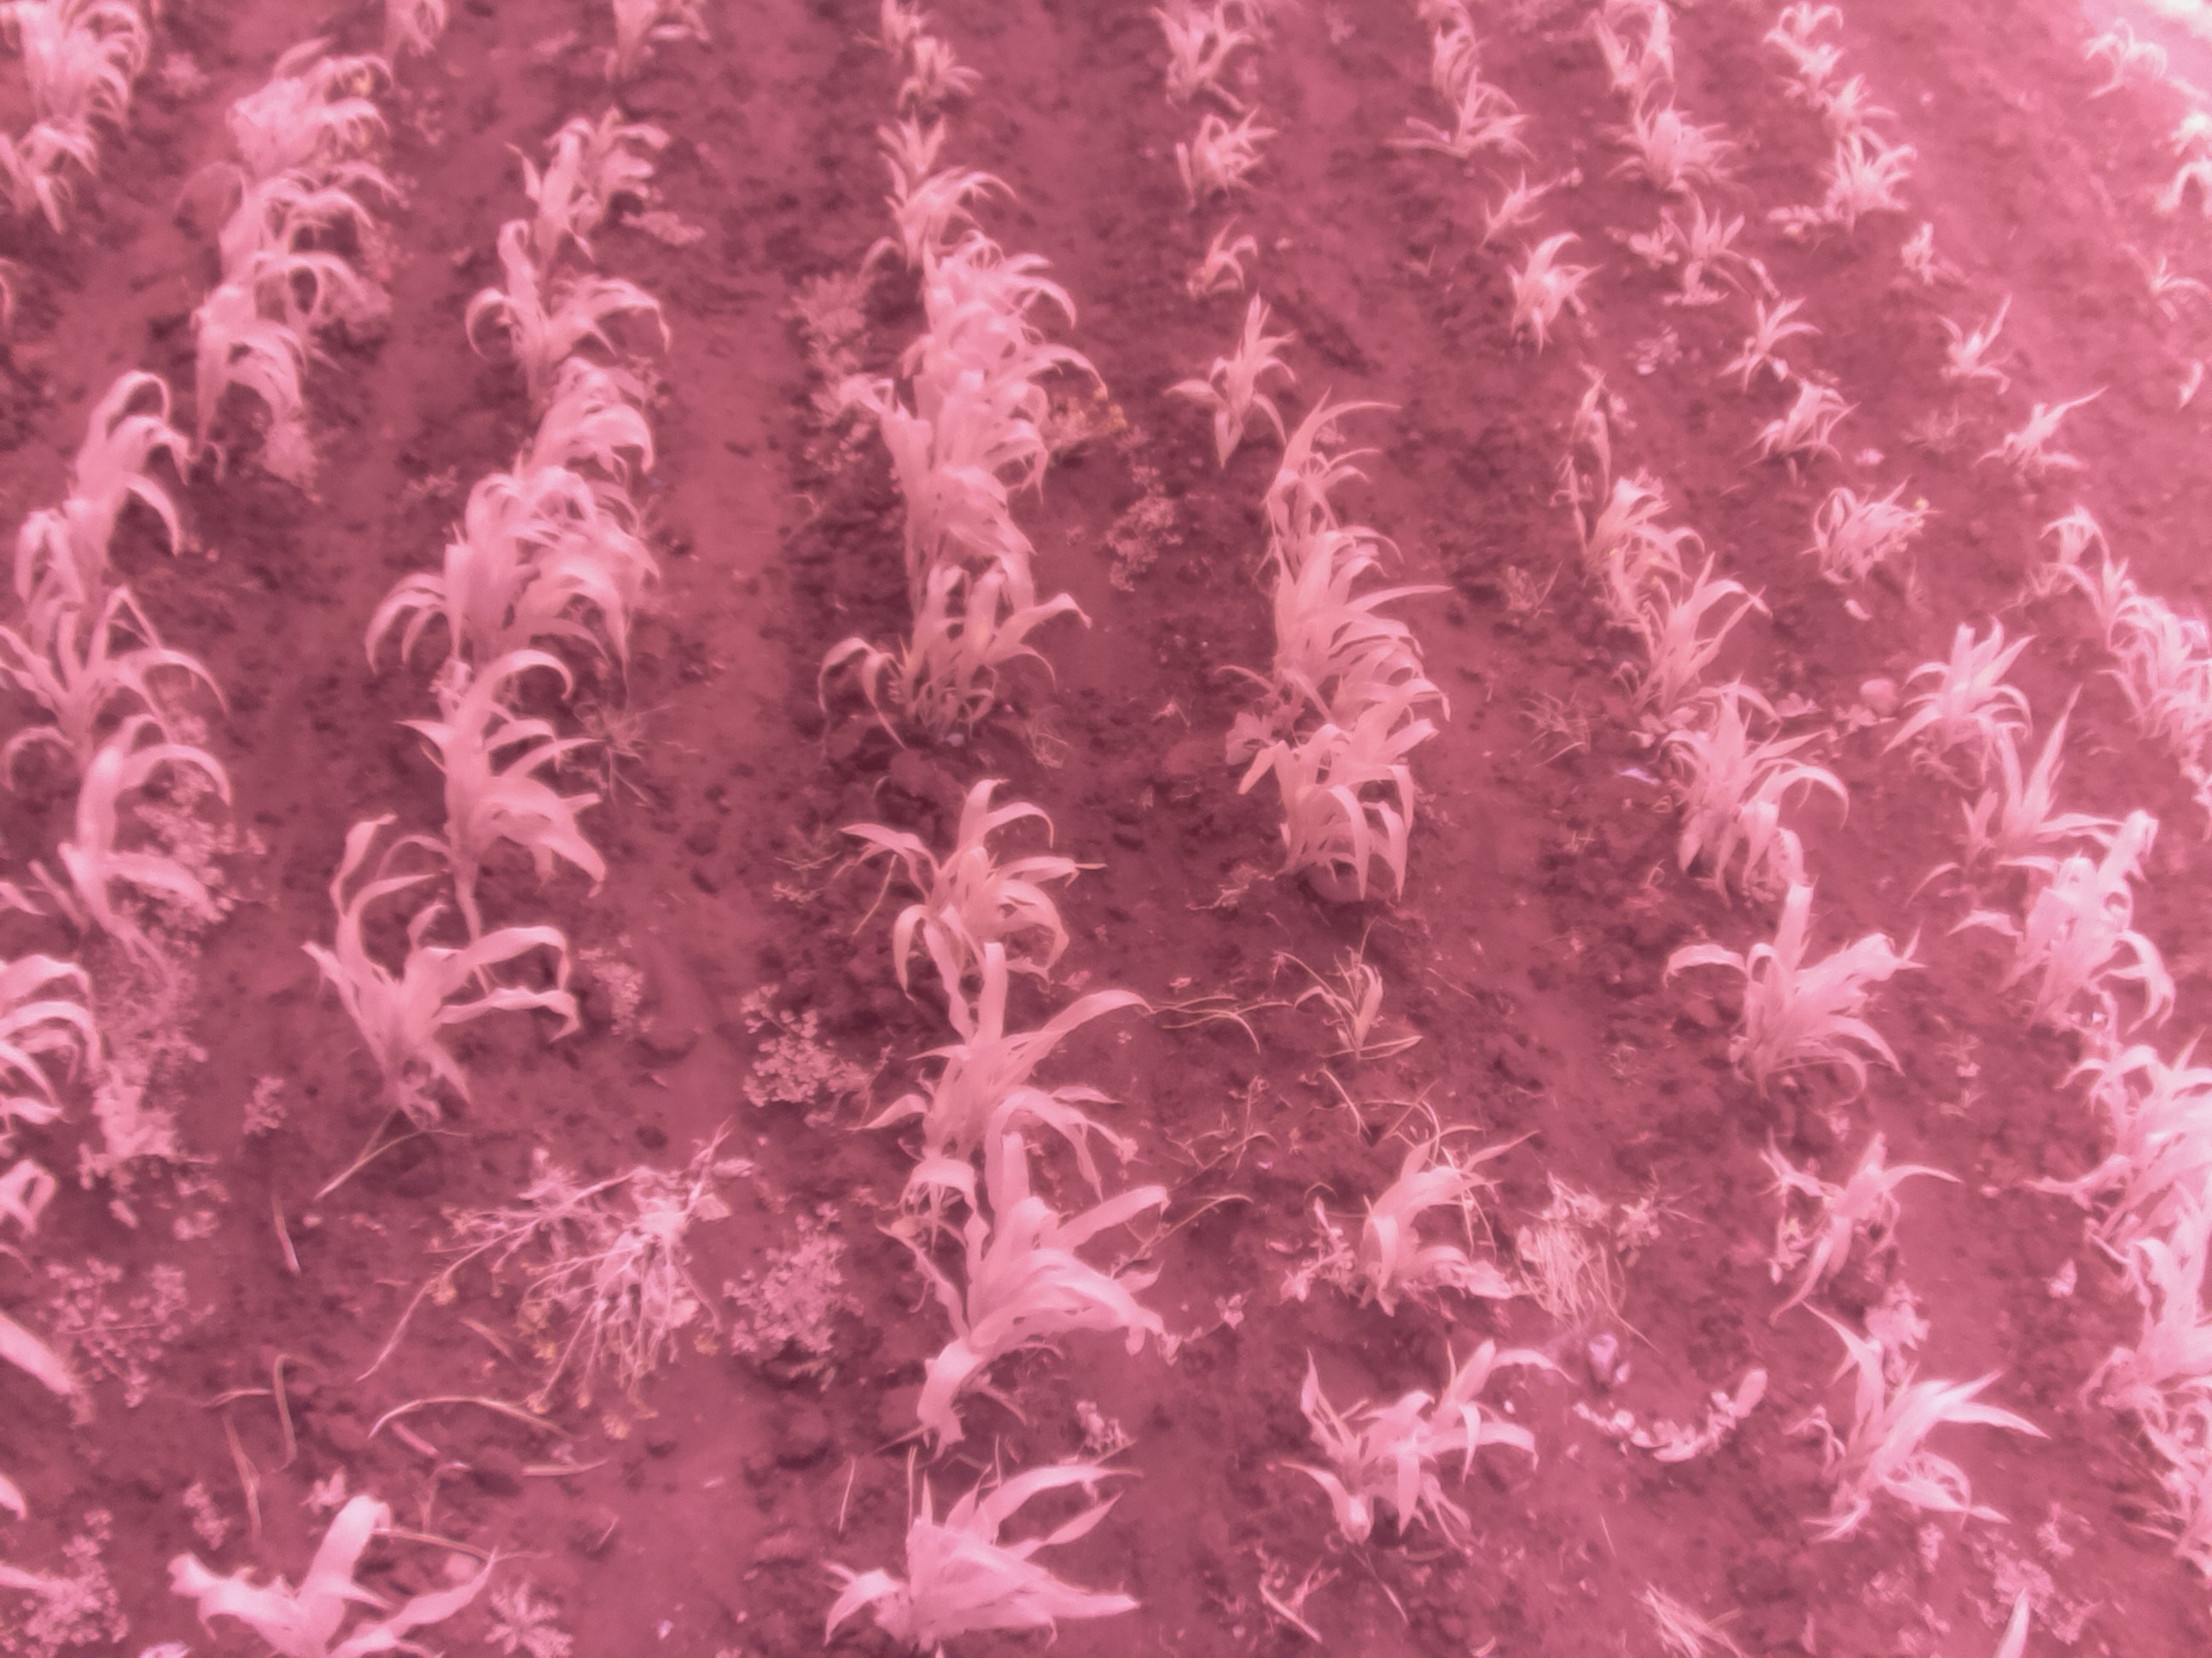Maiz: (864, 1116, 1188, 1411), (301, 813, 587, 1127), (366, 637, 627, 900), (822, 960, 1163, 1151), (833, 1444, 1134, 1658), (401, 474, 650, 731), (820, 338, 1043, 613), (824, 531, 1075, 768), (826, 787, 1101, 993), (16, 345, 200, 643), (0, 564, 216, 819), (1806, 1338, 2054, 1552), (171, 1489, 505, 1646), (1726, 866, 1933, 1106), (21, 714, 230, 949), (890, 251, 1062, 524), (453, 212, 679, 418), (1240, 683, 1435, 909), (1308, 1123, 1538, 1311), (1747, 1122, 1963, 1317), (1235, 512, 1433, 716), (2020, 827, 2188, 1066), (176, 145, 374, 331), (178, 239, 348, 446), (1987, 683, 2120, 942), (1392, 1324, 1568, 1512), (491, 350, 658, 529), (498, 113, 665, 286), (1886, 608, 2062, 770), (2095, 1172, 2212, 1416), (2059, 1001, 2212, 1186), (1629, 540, 1770, 733), (237, 45, 385, 221), (1240, 385, 1388, 559), (1642, 712, 1787, 881), (1733, 735, 1851, 920), (1597, 70, 1743, 214), (1280, 1381, 1400, 1552), (1174, 308, 1306, 456), (1804, 460, 1932, 613), (1625, 190, 1777, 313), (871, 141, 993, 291), (23, 0, 136, 141), (1608, 484, 1702, 653), (2118, 580, 2212, 747), (1284, 956, 1425, 1068), (1144, 2, 1271, 124), (1392, 68, 1524, 176), (1564, 449, 1674, 573), (1996, 369, 2109, 488), (1155, 111, 1291, 207), (1745, 371, 1872, 470), (1461, 167, 1569, 277), (1717, 293, 1813, 416), (1503, 232, 1594, 359), (0, 124, 101, 223), (1585, 5, 1689, 99), (2033, 493, 2116, 610), (594, 0, 704, 85), (1930, 301, 2022, 401), (859, 115, 963, 202), (1831, 136, 1918, 235), (1174, 218, 1266, 310), (1413, 0, 1477, 129), (1775, 14, 1843, 124), (1550, 352, 1615, 465), (2088, 14, 2170, 103), (888, 33, 974, 115), (2107, 244, 2212, 308), (1815, 80, 1876, 153)
